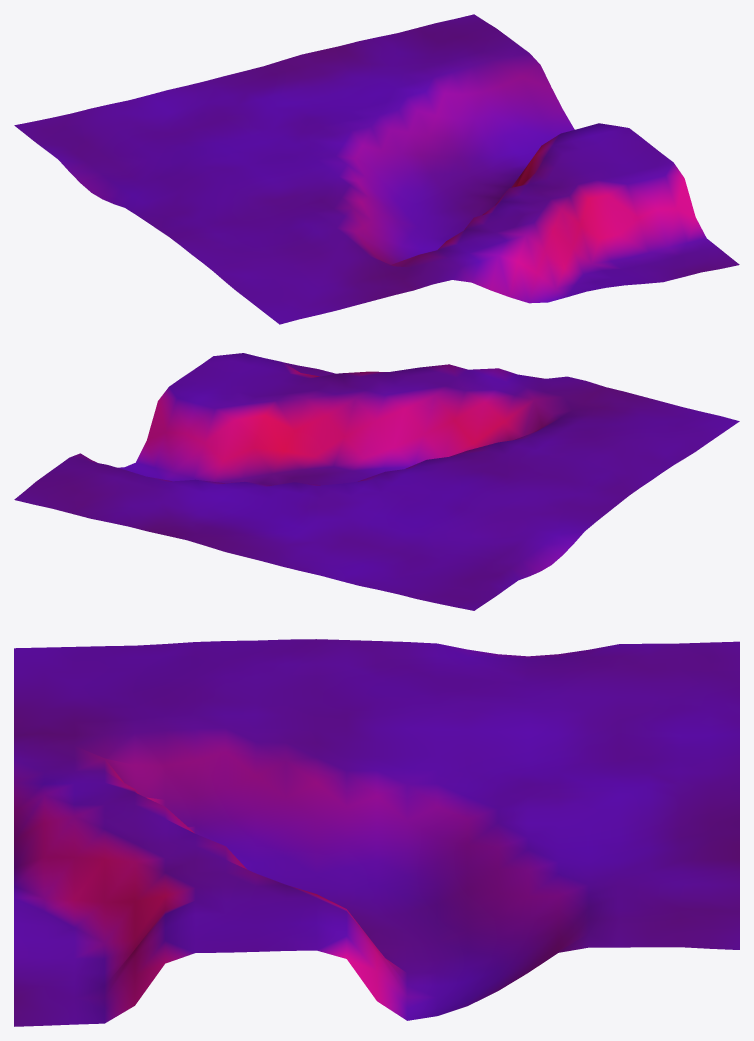
The model's file is ground_14.glb.
3 views of the same model, one above another, from view 1: azimuth 30°, elevation 25°; view 2: azimuth 150°, elevation 25°; view 3: azimuth 270°, elevation 25° (orthographic). The views are drawn at different scales.
Visible parts, largest first — view 1: Ground_14; view 2: Ground_14; view 3: Ground_14.
Boxes of the visible parts, x1,y1,x2,y2 form: Ground_14: (14, 14, 739, 324); Ground_14: (14, 353, 739, 610); Ground_14: (14, 639, 739, 1026).
Size of what is drawn, in the model's own units: 24 by 3.01 by 24.
